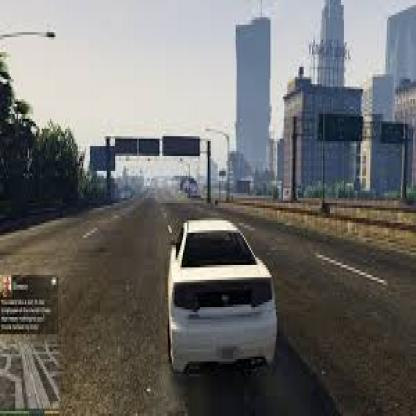car: (152, 203, 290, 386)
